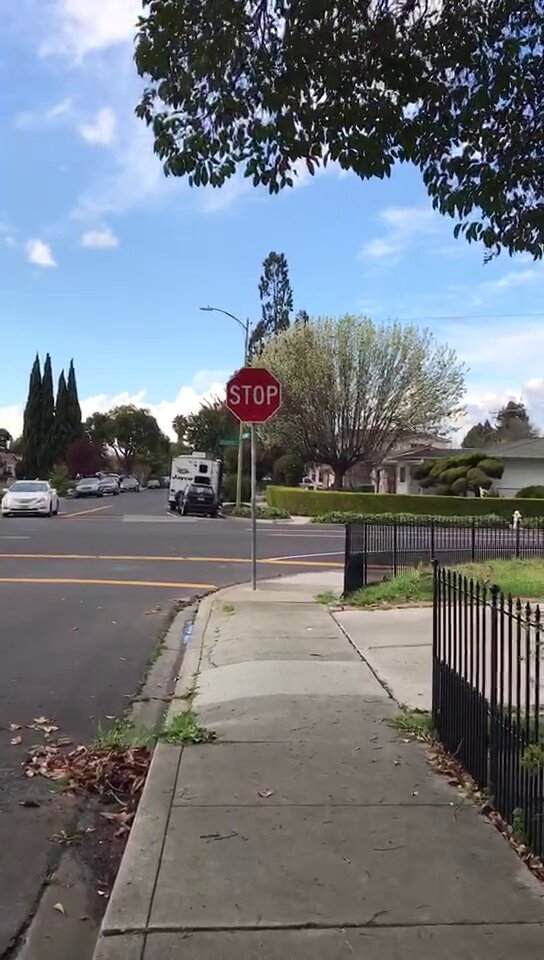stop_sign: (227, 369, 280, 425)
